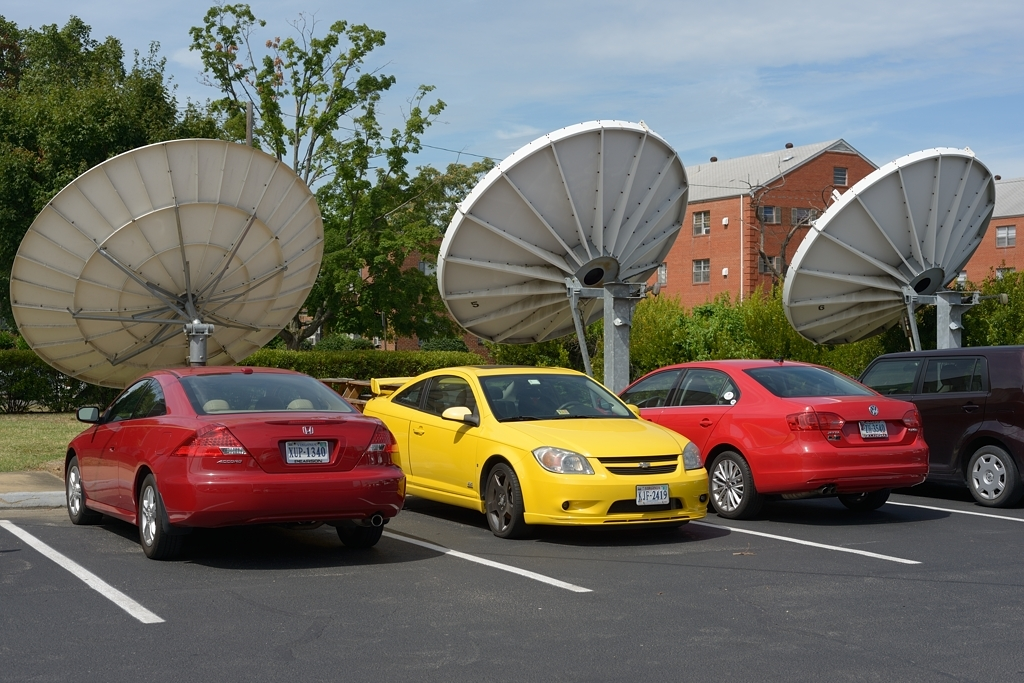Car: (62, 365, 408, 556), (360, 362, 709, 542), (595, 354, 933, 521), (849, 341, 1022, 512)
